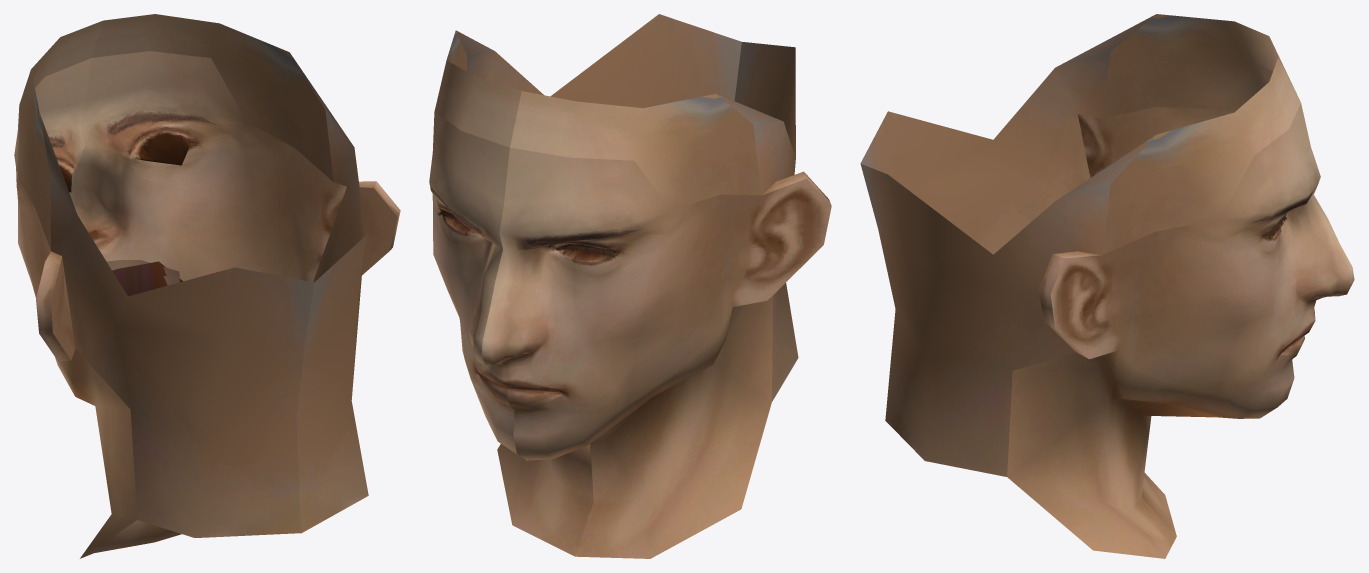
The picture shows the model from 3 angles, left to right: view 1: azimuth 30°, elevation 25°; view 2: azimuth 150°, elevation 25°; view 3: azimuth 270°, elevation 25°; orthographic projection. The views are drawn at different scales.
Parts seen in each view (by area): view 1: m_head; view 2: m_head; view 3: m_head.
Boxes of the visible parts, <box> form: m_head: <box>14,14,400,558</box>; m_head: <box>429,14,831,558</box>; m_head: <box>860,14,1354,558</box>.
Size of the model in its own units: 16.82 by 21.34 by 19.94.
Materials: 1 (1 with a texture image).
